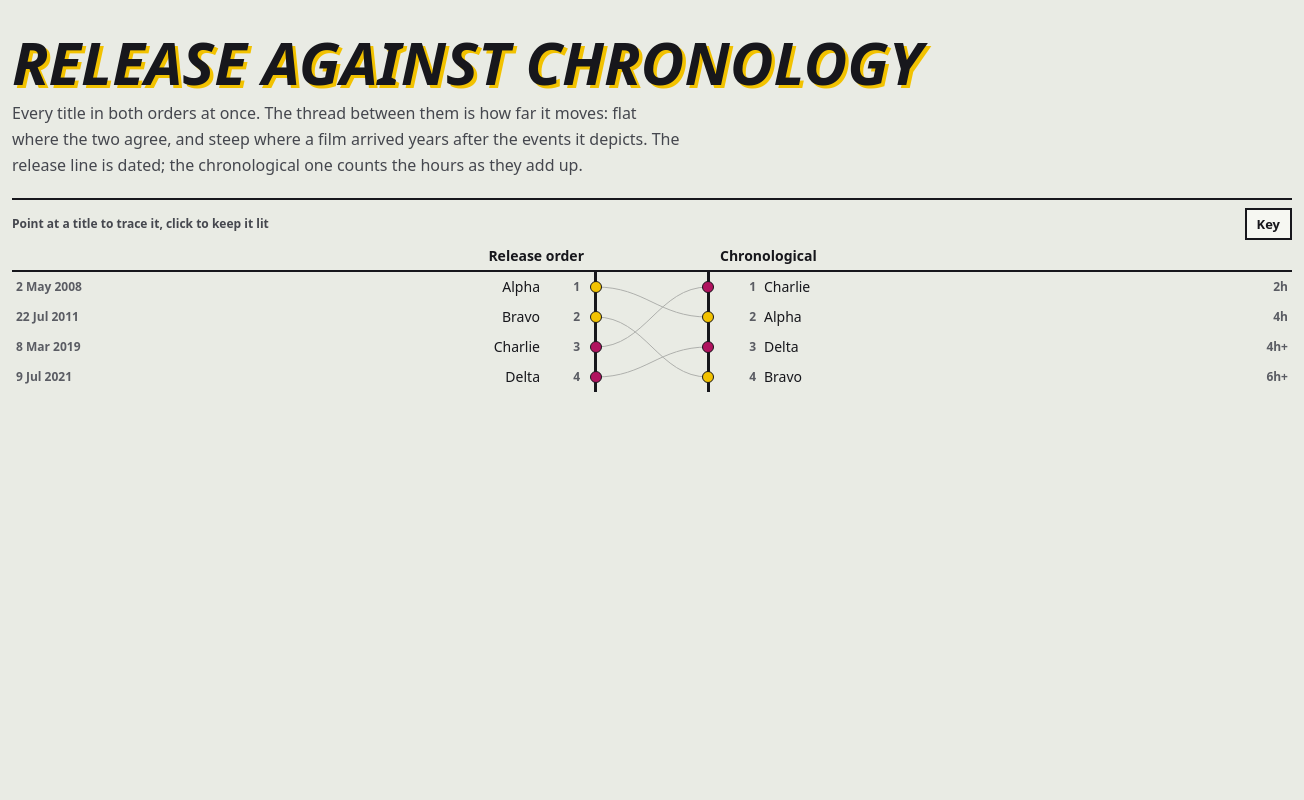
Scenario: ComparePage › dates the release line only
Expected: the button "8 Mar 2019 Charlie 3" is shown, x1=12 y1=332 x2=596 y2=362
Expected: the button "1 Charlie 2h" does not show "8 Mar 2019", x1=708 y1=272 x2=1292 y2=302
Click the button "Key": {"x": 1268, "y": 224} x1=1244 y1=208 x2=1292 y2=240
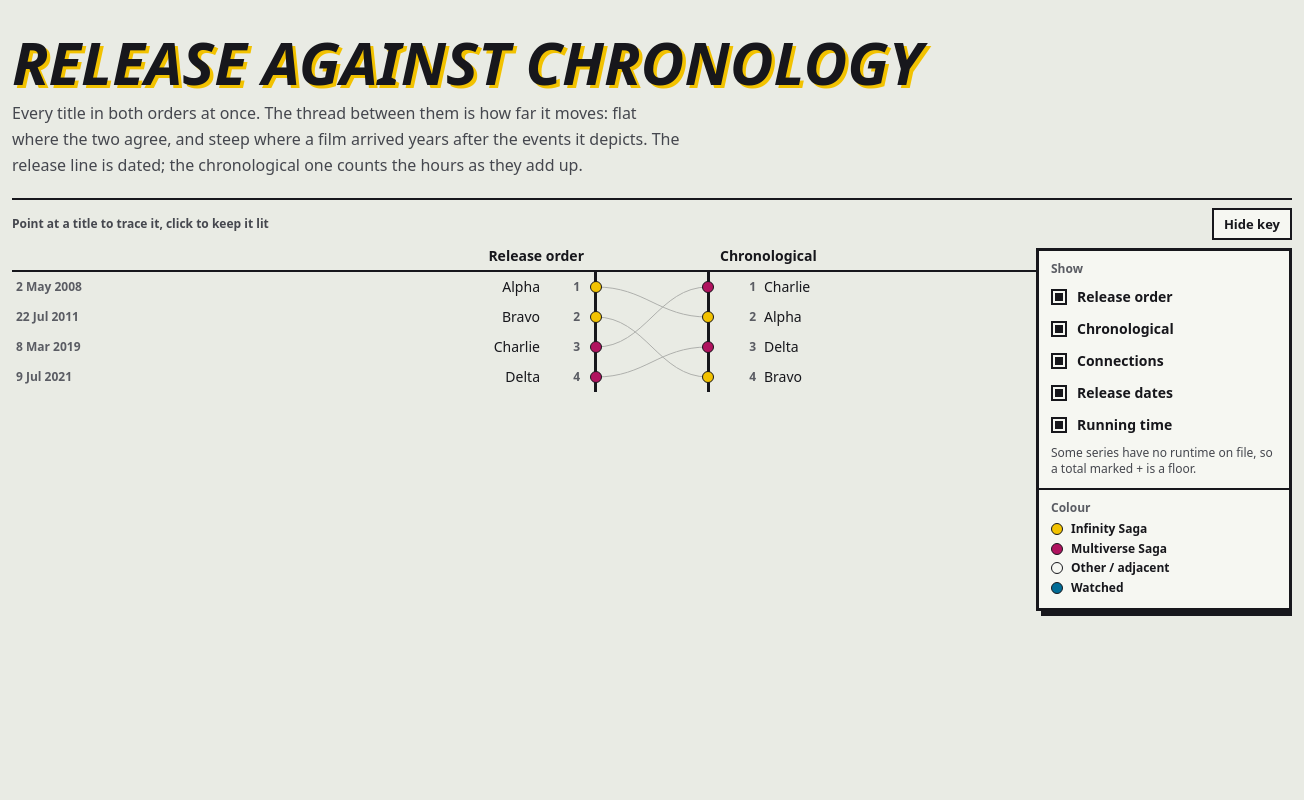
Click the switch labelled "Release dates": {"x": 1164, "y": 393} x1=1051 y1=377 x2=1277 y2=409
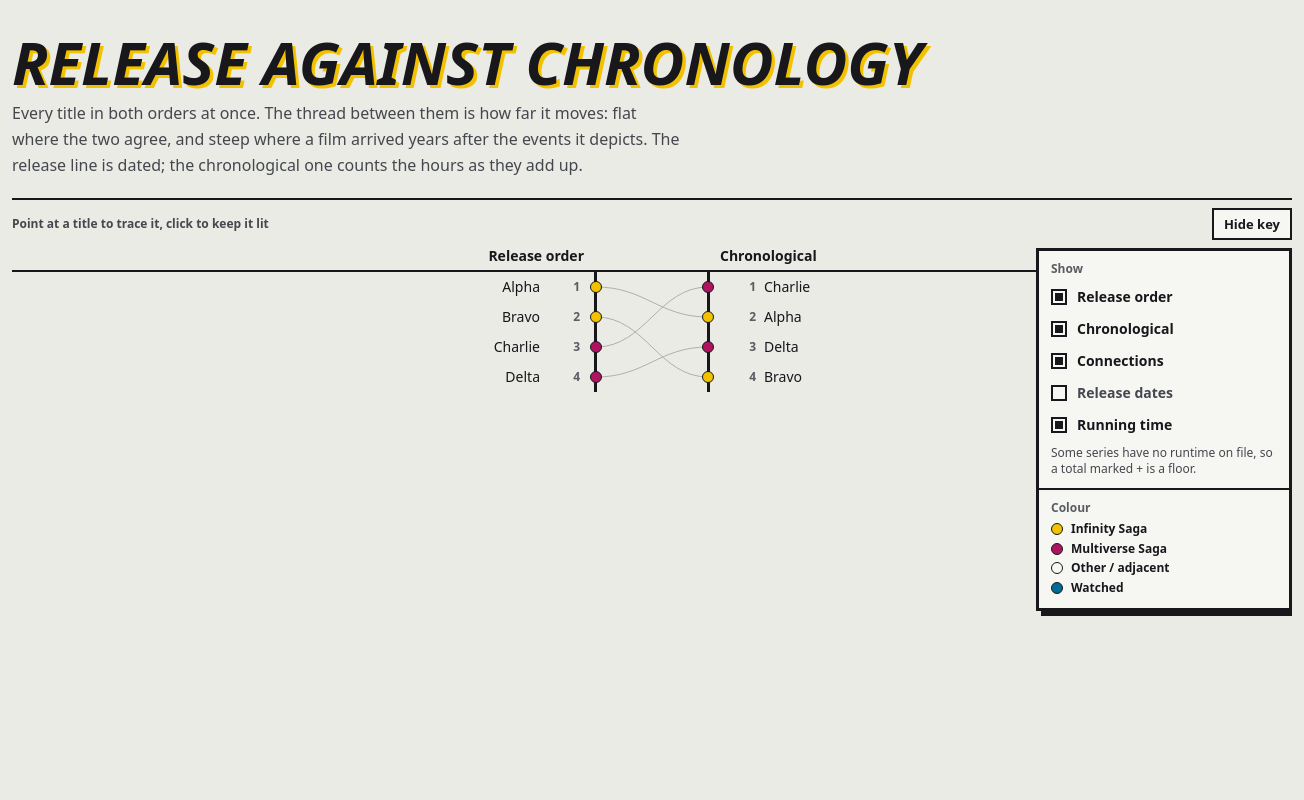
Expected: the text "8 Mar 2019" is gone
